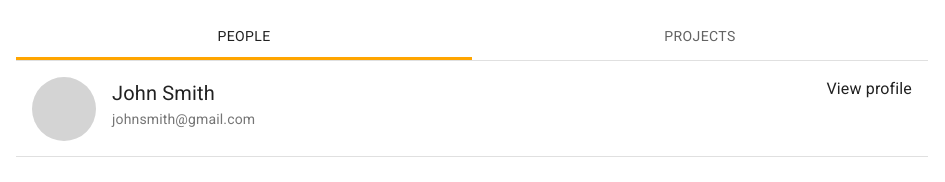
Test: Search Page › renders search results for people and projects by their respective tabs
Check: the heading "John Smith" is shown, box [112,81,215,105]
Check: the text "johnsmith@gmail.com" is shown, box [112,109,255,129]
Click the tab "Projects" at (700, 36), box [472,12,928,60]
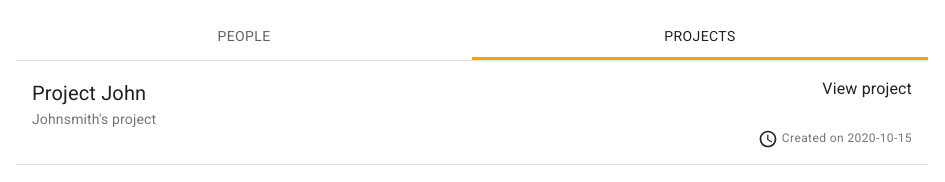
Check: the heading "Project John" is shown, box [32,77,146,109]
Check: the text "Johnsmith's project" is shown, box [32,111,156,127]
Check: the text "Created on 2020-10-15" is shown, box [782,129,912,149]
